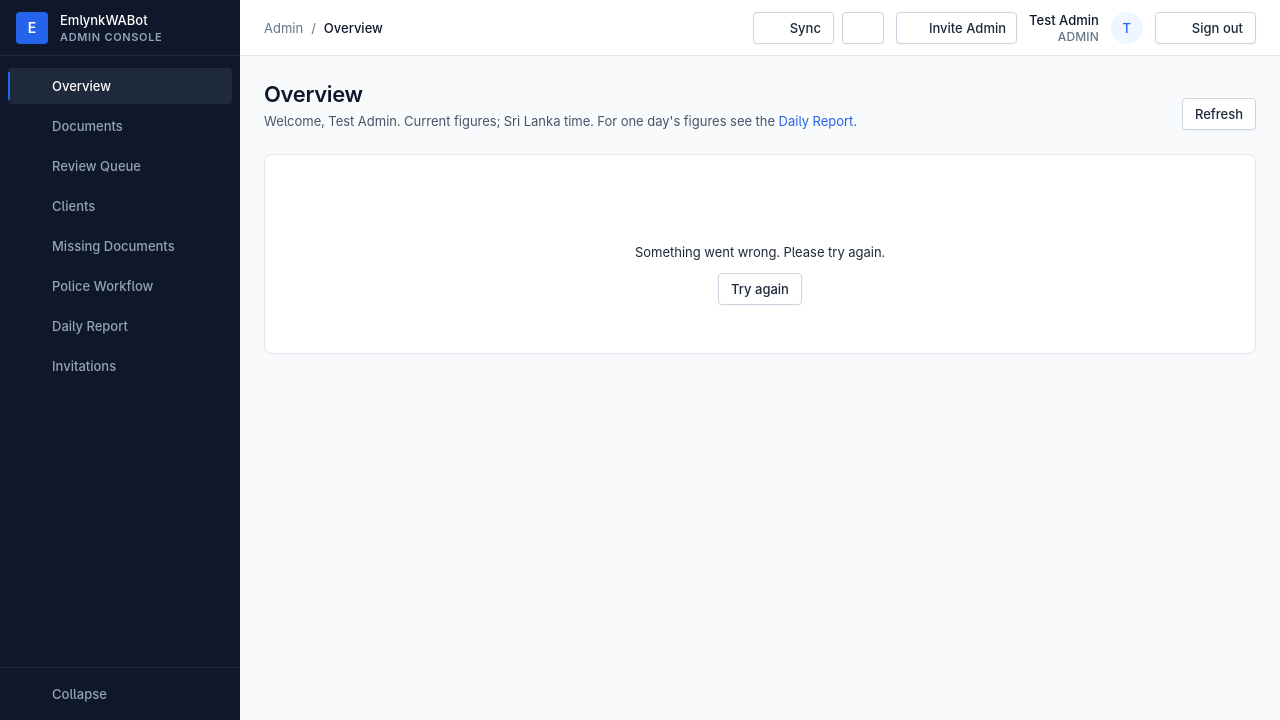
Test: Overview › server error -> error state with a retry that reloads
Expected: the message shows "Something went wrong. Please try again.", [635,244,885,260]
Step 1. Click the button "Try again" → x=760, y=289, box [718,273,802,305]
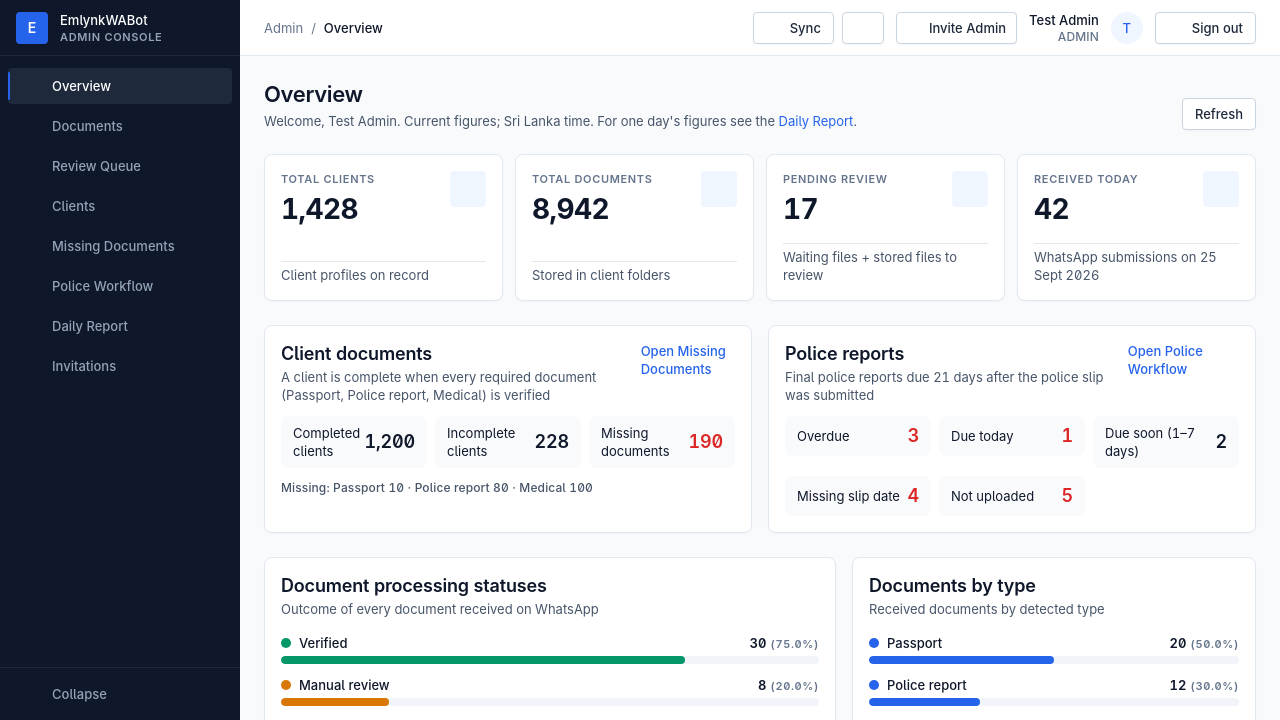
Now the text "1,428" is shown, box [281,192,358,226]
